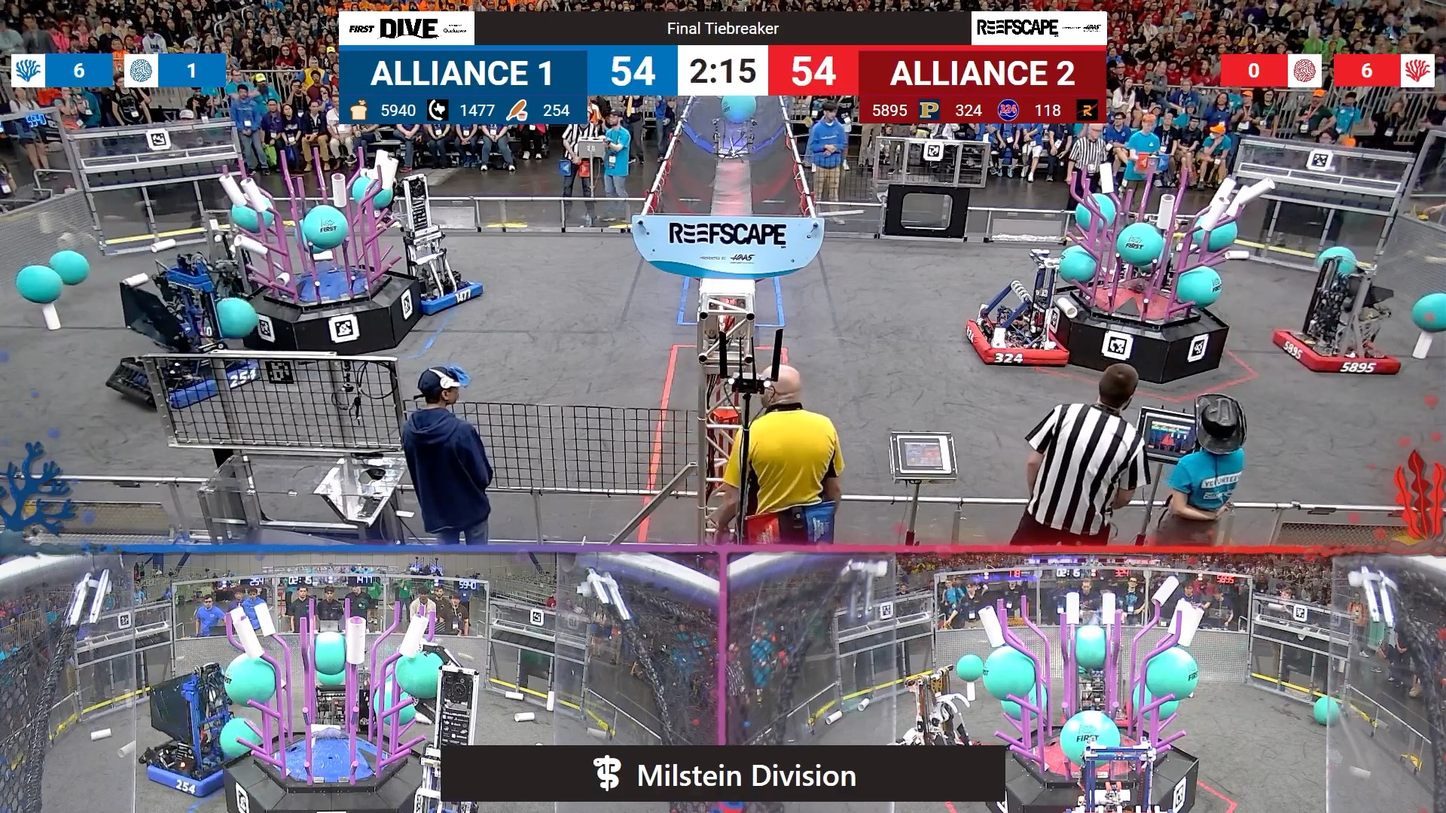bumpers: (118, 350, 261, 409), (1261, 323, 1400, 381), (962, 314, 1079, 376), (140, 748, 245, 798), (395, 271, 490, 319), (162, 307, 251, 339)
